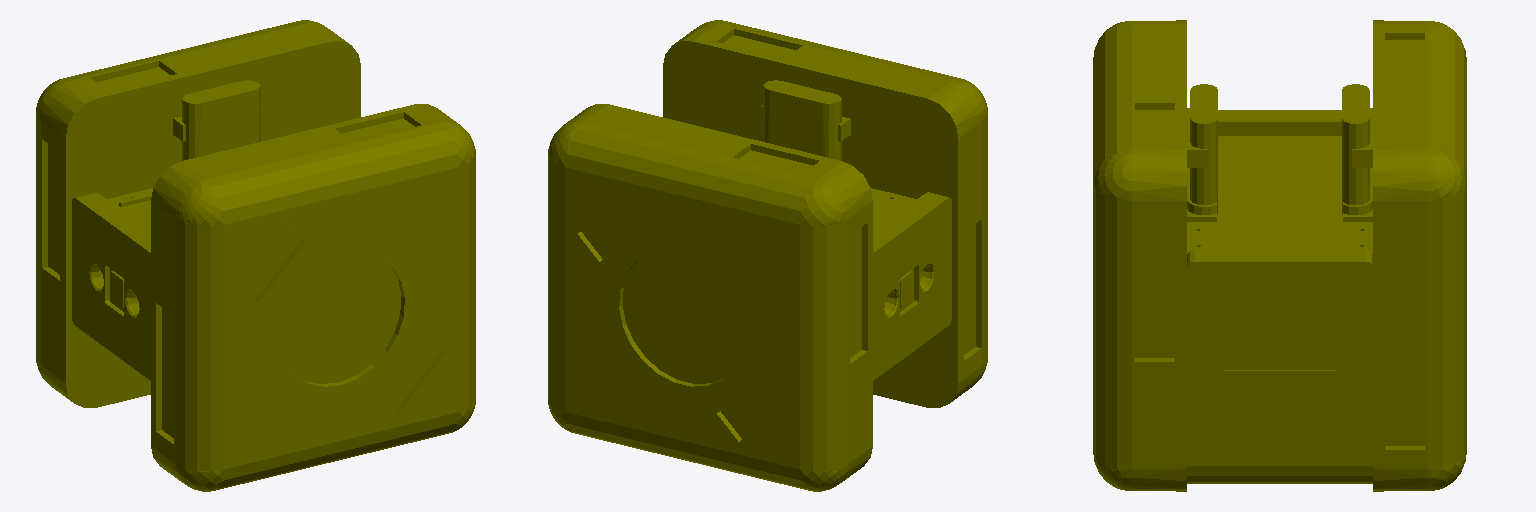
robot.urdf — astrobee:
<?xml version="1.0"?>
<robot name="astrobee">
  <link name="body"> 
    <visual>
      <origin xyz="0 0 0" rpy="0 0 0" />
      <geometry>
        <mesh filename="package://rviz_visualizer/model/astrobee_mesh.stl" />
      </geometry>
      <material name="grey">
        <color rgba="0.5 0.5 0.0 0.9"/>
      </material>
    </visual>
    <collision>
      <origin xyz="0 0 0" rpy="0 0 0" />
      <geometry>
        <box size="0.305 0.305 0.305"/>
      </geometry>
    </collision>
  </link>
</robot>

--- Facts derived from the render (not from the file) ---
3 views of the same robot in one strip: view 1: azimuth 30°, elevation 25°; view 2: azimuth 150°, elevation 25°; view 3: azimuth 270°, elevation 25° (orthographic).
Model astrobee with 1 links and 0 joints (none), rooted at body, posed every joint at zero.
Visible links, largest first — view 1: body; view 2: body; view 3: body.
Boxes of the visible links, left/top/right/bottom form: body: left=36, top=20, right=475, bottom=491; body: left=548, top=20, right=987, bottom=491; body: left=1093, top=20, right=1466, bottom=491.
Size in the robot's own frame: 0.3048 by 0.3048 by 0.3048 metres.
1 mesh visuals loaded from 1 distinct referenced files (1 binary STL).